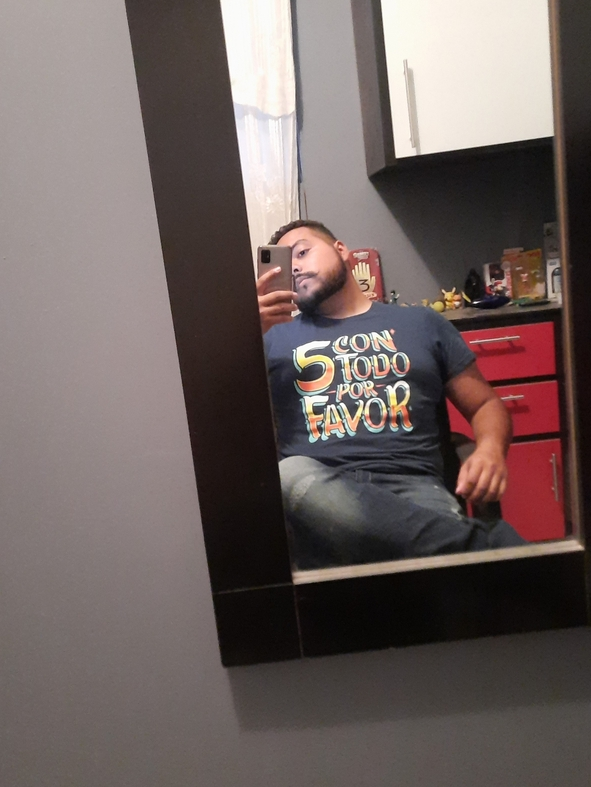Yoshi: (258, 210, 365, 337)
